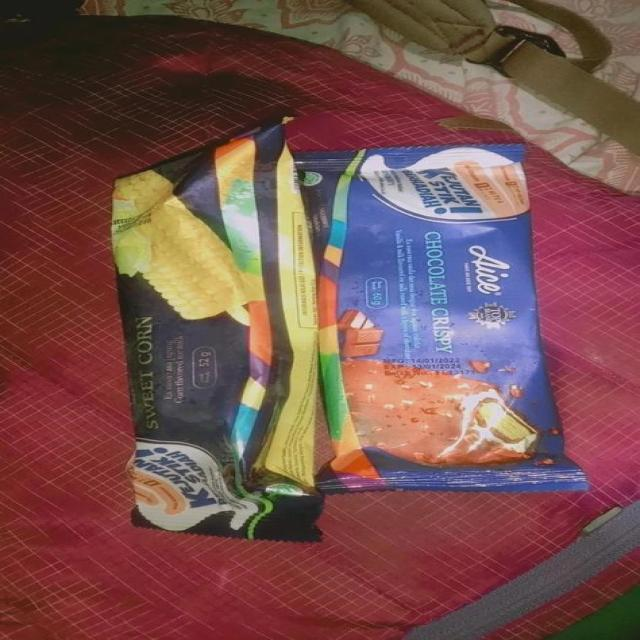KemasanPlastik: (252, 168, 640, 330), (172, 64, 640, 177)
